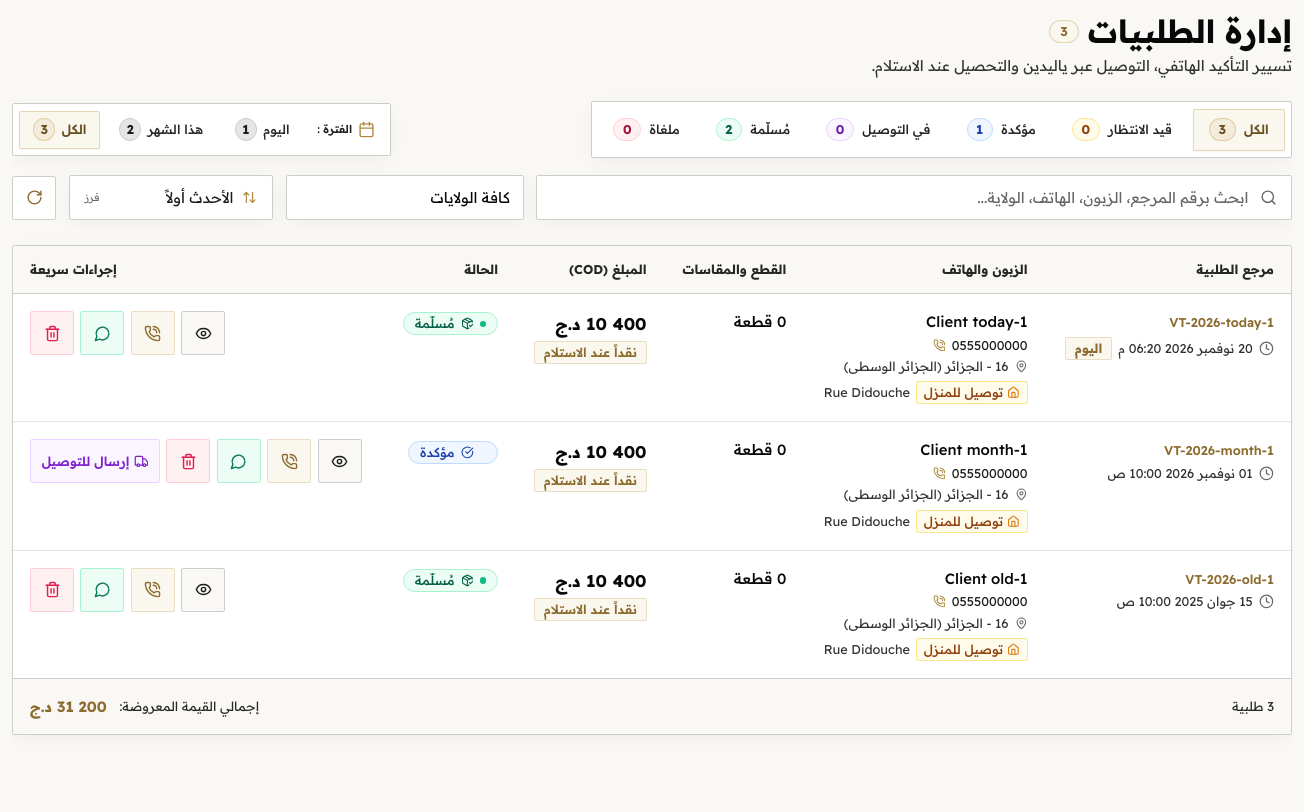
Admin Orders Date Filter (Today, This Month, All) › renders date filter tabs (Today, This Month, All) and filters accurately
The width and height of the screenshot is (1304, 812).
Check: the text "VT-2026-today-1" is shown, box x1=1169 y1=314 x2=1274 y2=331
Check: the text "VT-2026-month-1" is shown, box x1=1164 y1=442 x2=1274 y2=459
Click 'اليوم' (Today) tab
Click the button "اليوم 1" at (262, 130), box x1=222 y1=112 x2=302 y2=148
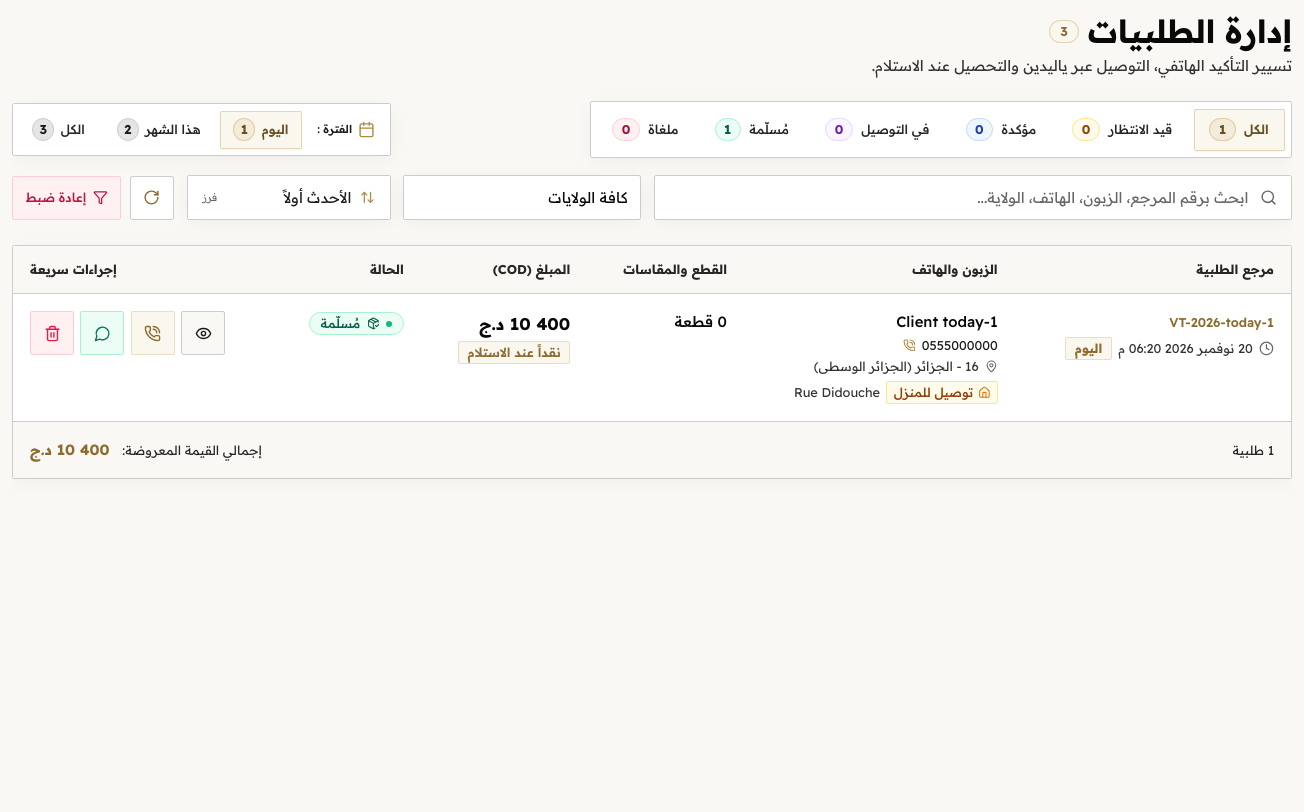
Check: the text "VT-2026-today-1" is shown, box x1=1169 y1=314 x2=1274 y2=331
Check: the link "VT-2026-old-1" is gone
Click 'هذا الشهر' (This Month) tab
Click the button "هذا الشهر 2" at (159, 130), box x1=104 y1=112 x2=213 y2=148
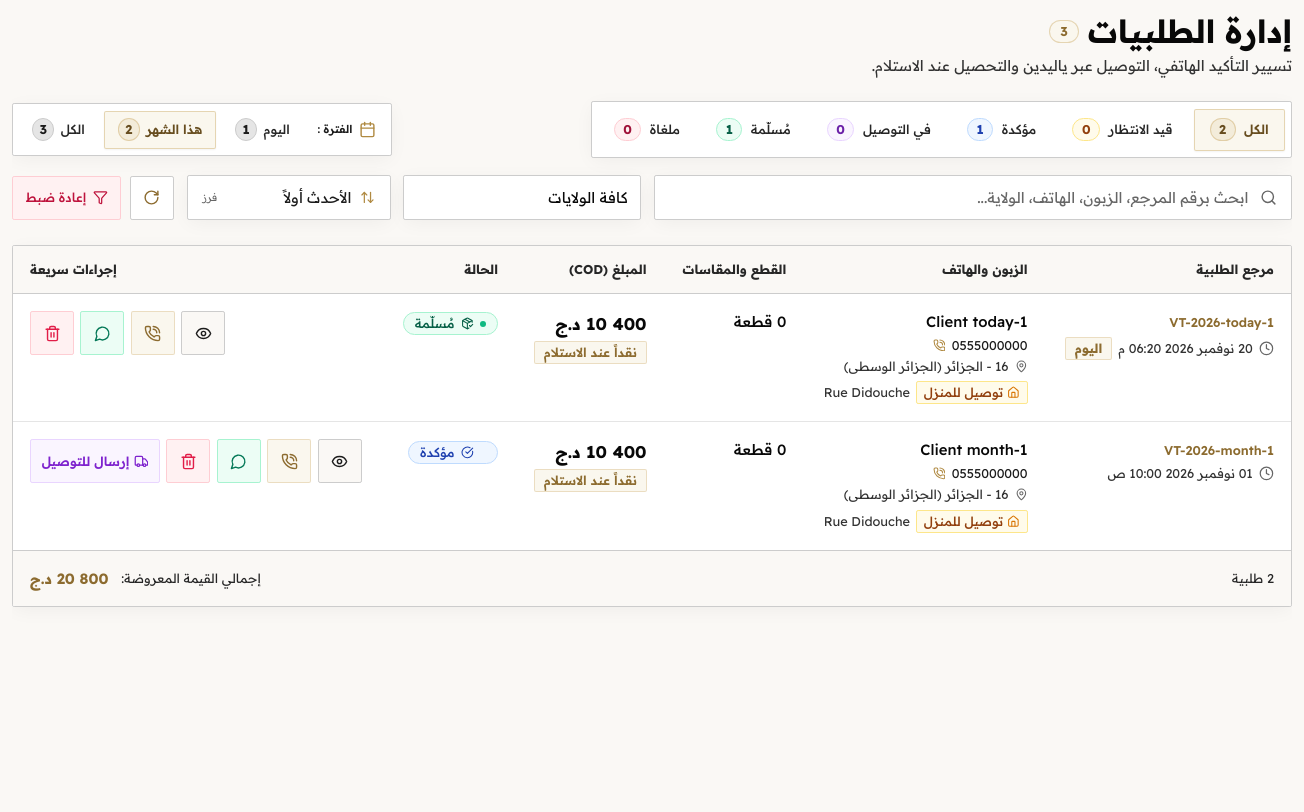
Check: the text "VT-2026-today-1" is shown, box x1=1169 y1=314 x2=1274 y2=331
Check: the text "VT-2026-month-1" is shown, box x1=1164 y1=442 x2=1274 y2=459
Click the date filter 'الكل' button (last one)
Click the button "الكل 3" at (59, 130), box x1=19 y1=112 x2=98 y2=148
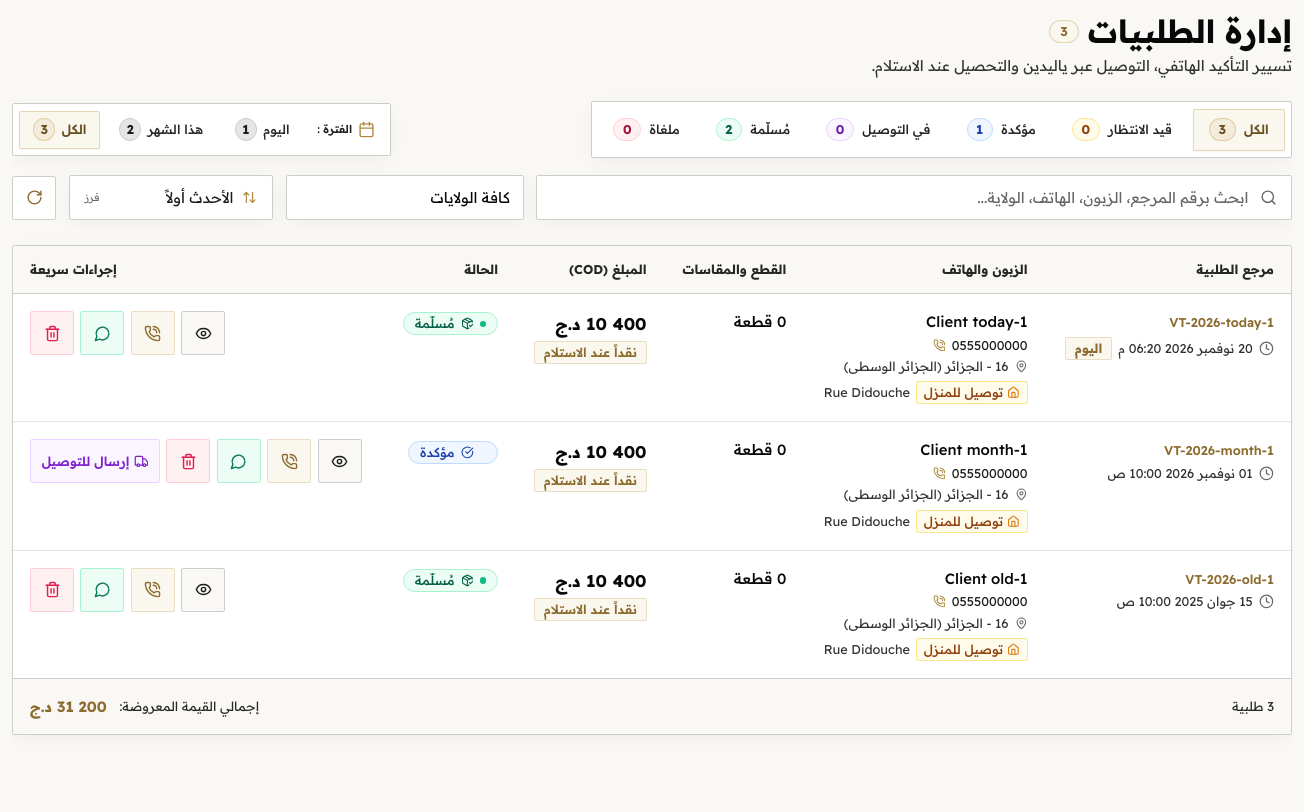
Check: the text "VT-2026-today-1" is shown, box x1=1169 y1=314 x2=1274 y2=331
Check: the text "VT-2026-month-1" is shown, box x1=1164 y1=442 x2=1274 y2=459
Check: the text "VT-2026-old-1" is shown, box x1=1185 y1=571 x2=1274 y2=588
